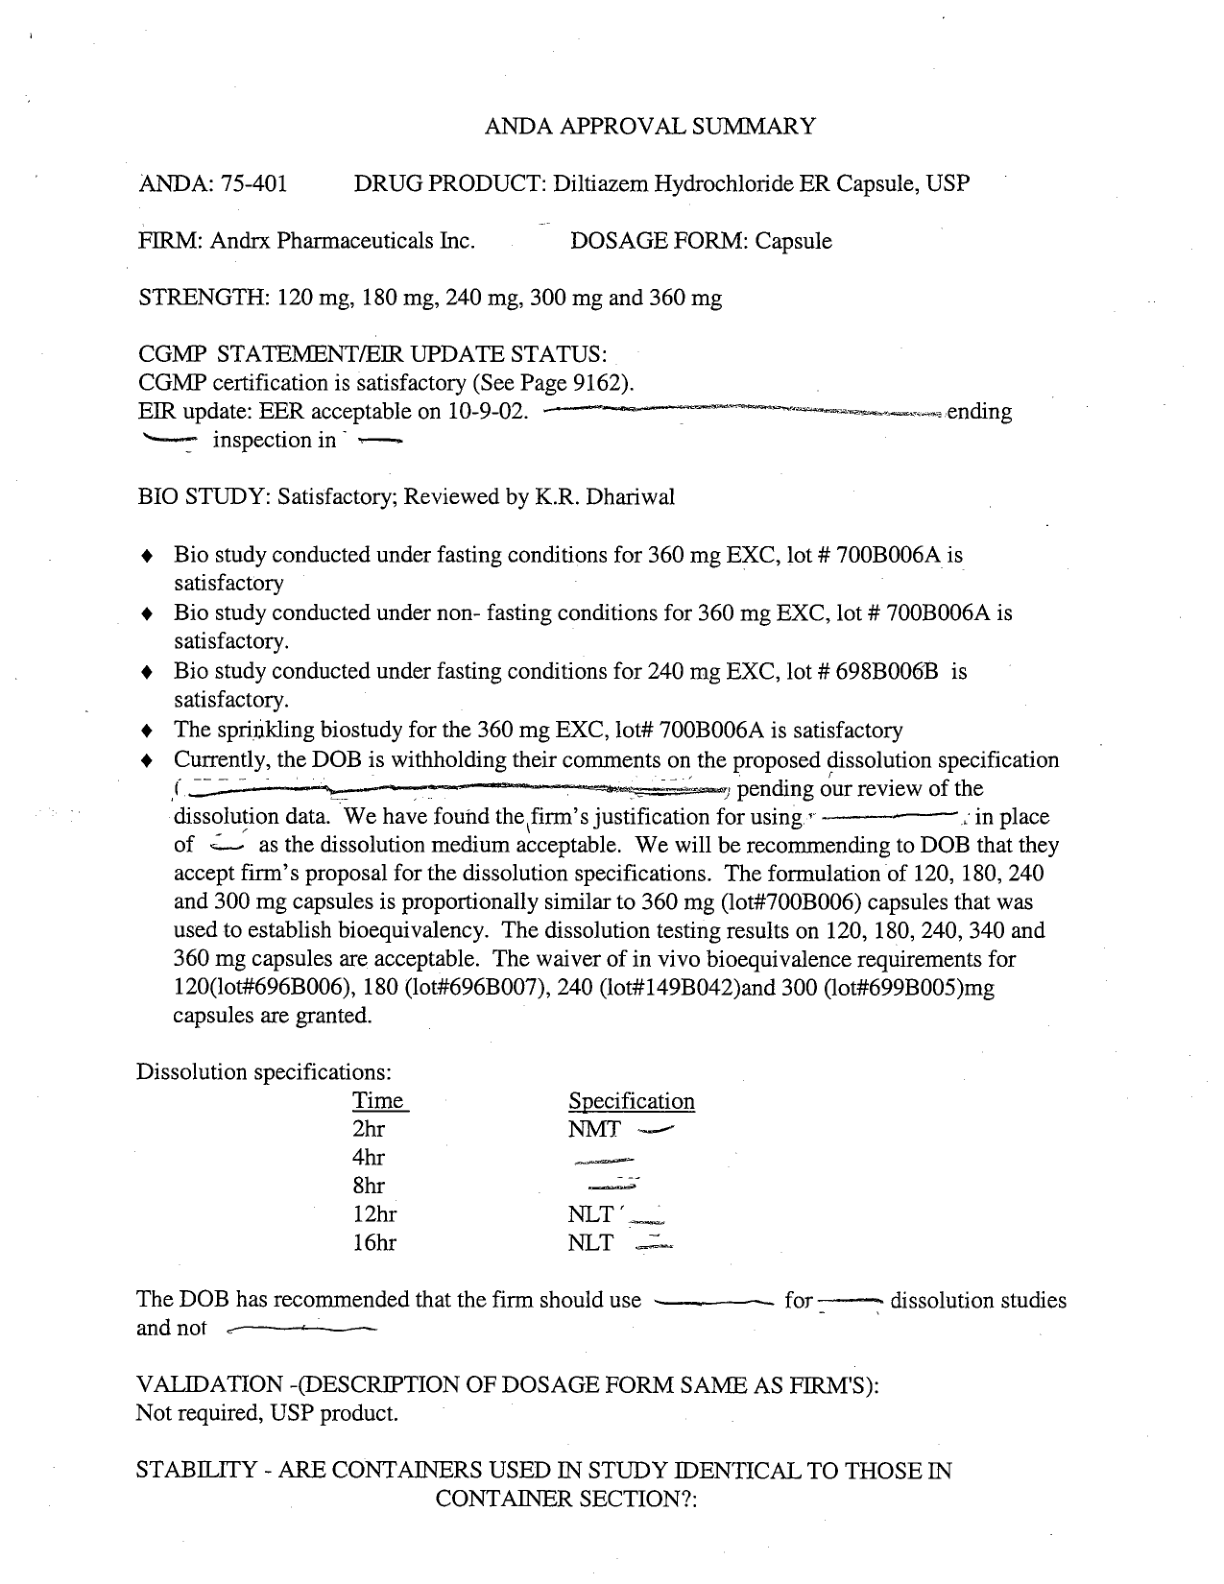nolines: (346, 1085, 698, 1259)
